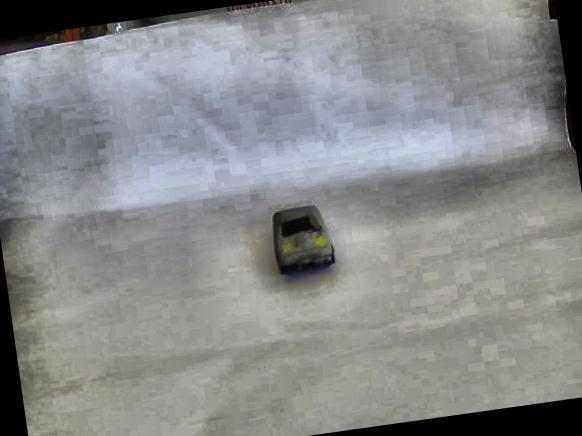normal_car: (266, 200, 340, 278)
